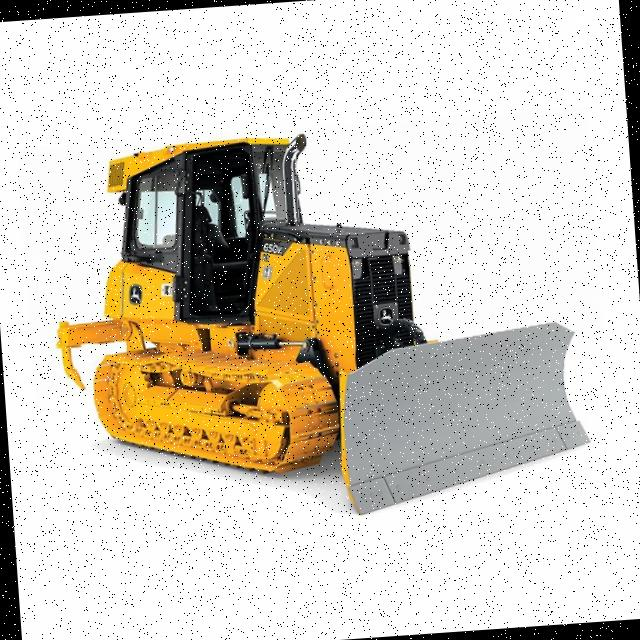Bulldozer: (42, 89, 623, 542)
